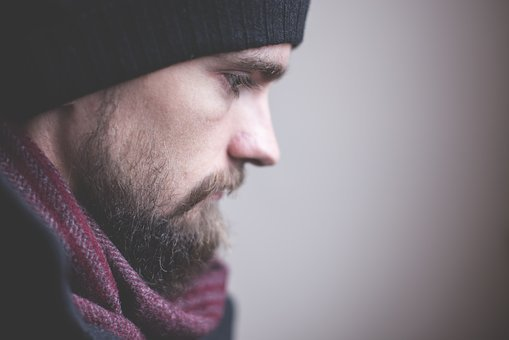noMask: (42, 14, 331, 266)
